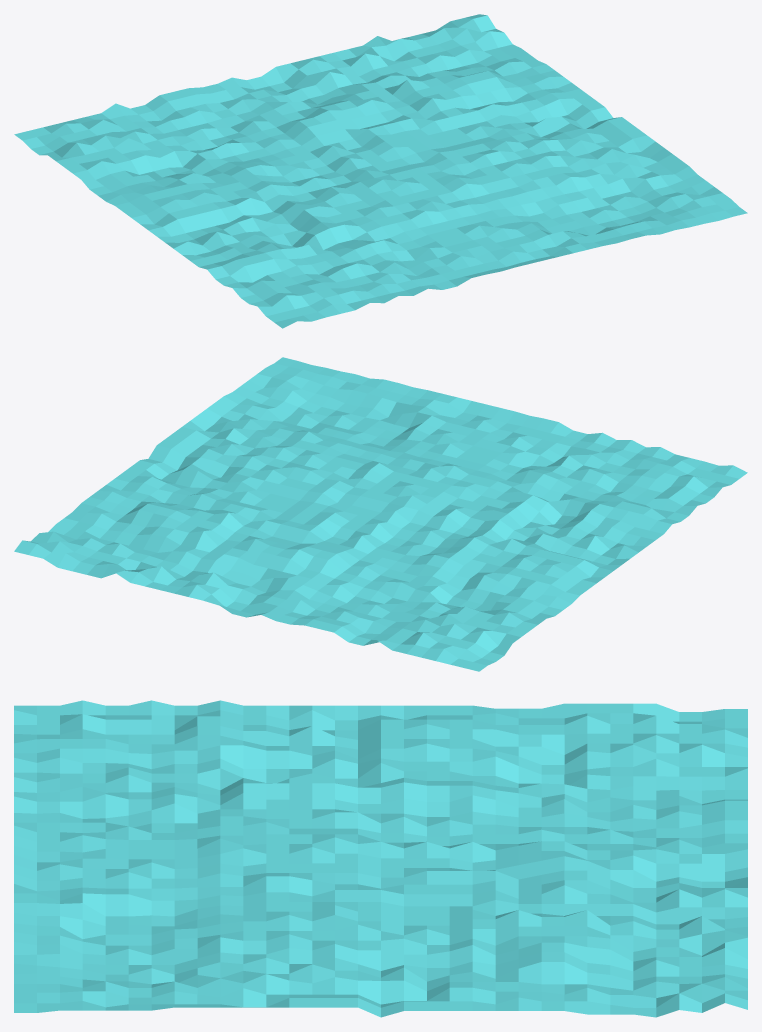
File: Mo_WaterForest.fbx
The picture shows the model from 3 angles, top to bottom: view 1: azimuth 30°, elevation 25°; view 2: azimuth 150°, elevation 25°; view 3: azimuth 270°, elevation 25°; orthographic projection. The views are drawn at different scales.
Parts seen in each view (by area): view 1: Plane; view 2: Plane; view 3: Plane.
Boxes of the visible parts, left/top/right/bottom form: Plane: left=14, top=14, right=747, bottom=328; Plane: left=14, top=357, right=747, bottom=671; Plane: left=14, top=700, right=747, bottom=1017.
Size of the model in its own units: 1121 by 56.11 by 1121.
